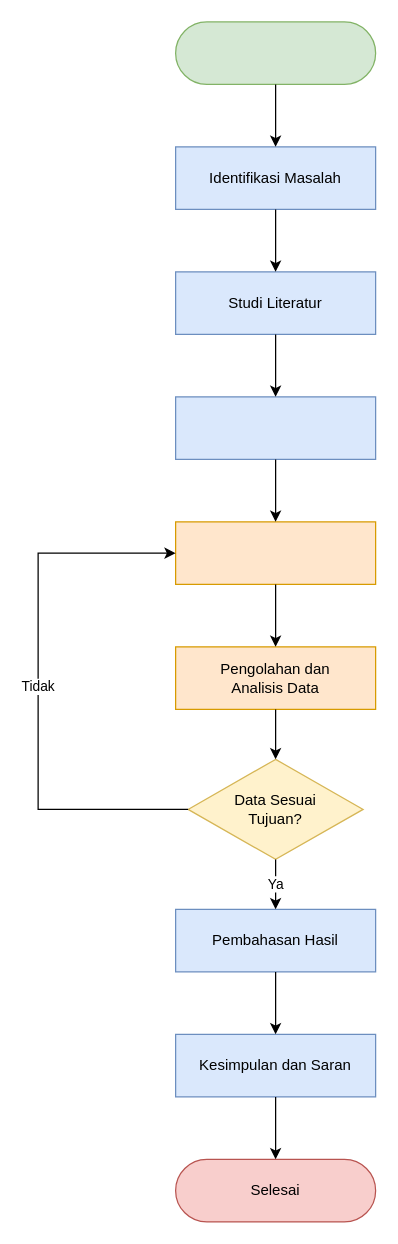
This 398x1244 diagram has some shape labels left out. Each missing label, with the centre of its shape:
Mulai: pixel 275 52
Pengumpulan Data: pixel 275 552
Rumusan Masalah dan Tujuan Penelitian: pixel 275 427
